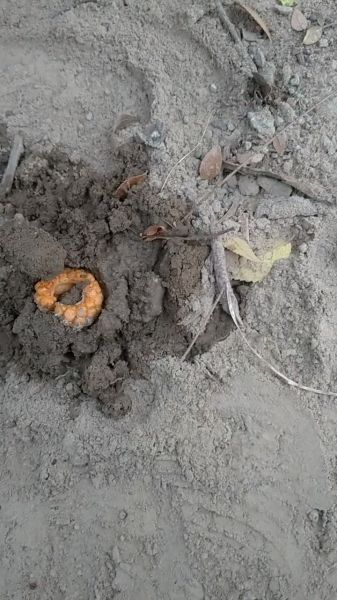eggs: (27, 264, 108, 335)
